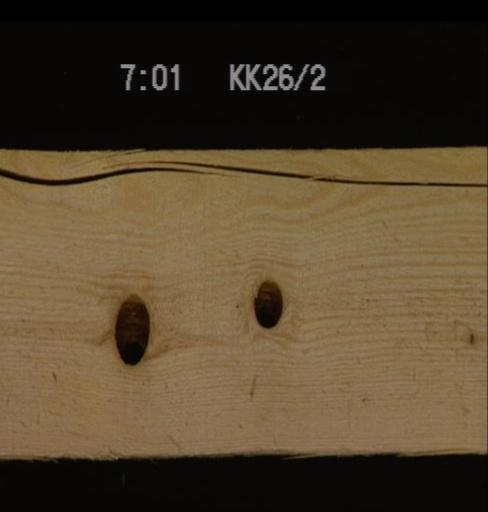split: (0, 156, 486, 190)
wave: (242, 431, 486, 464)
